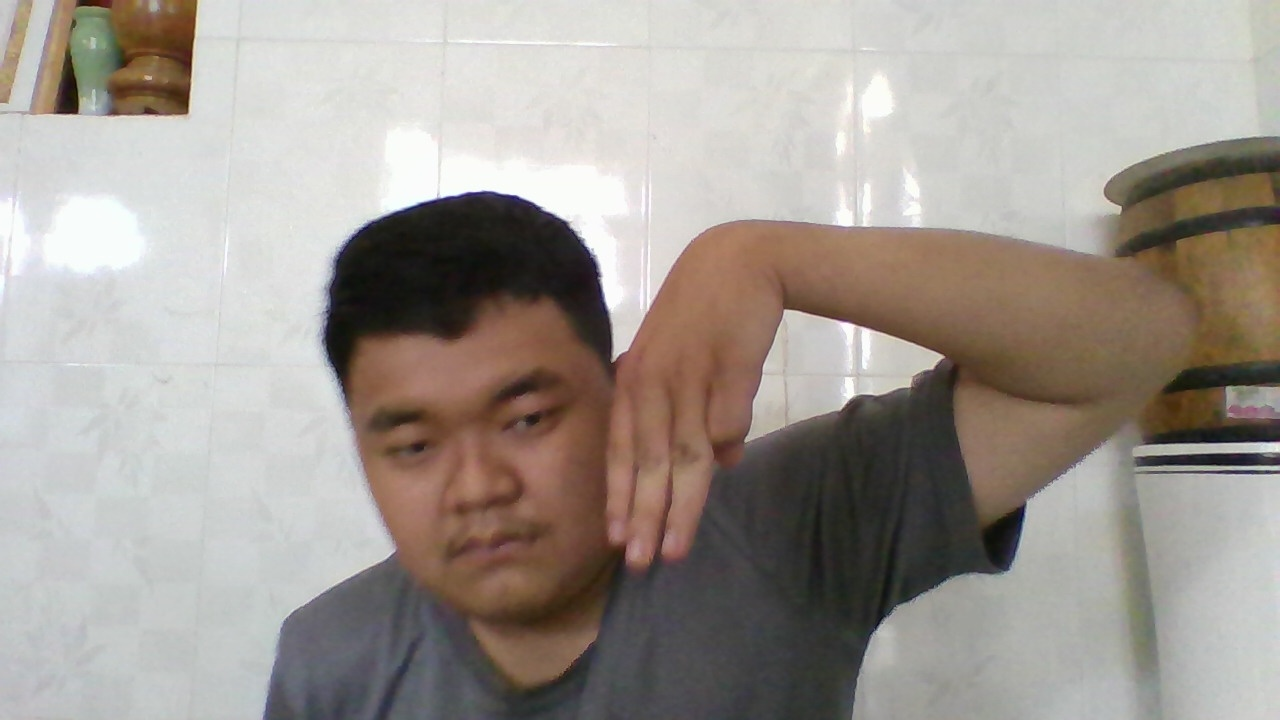M: (597, 237, 755, 574)
